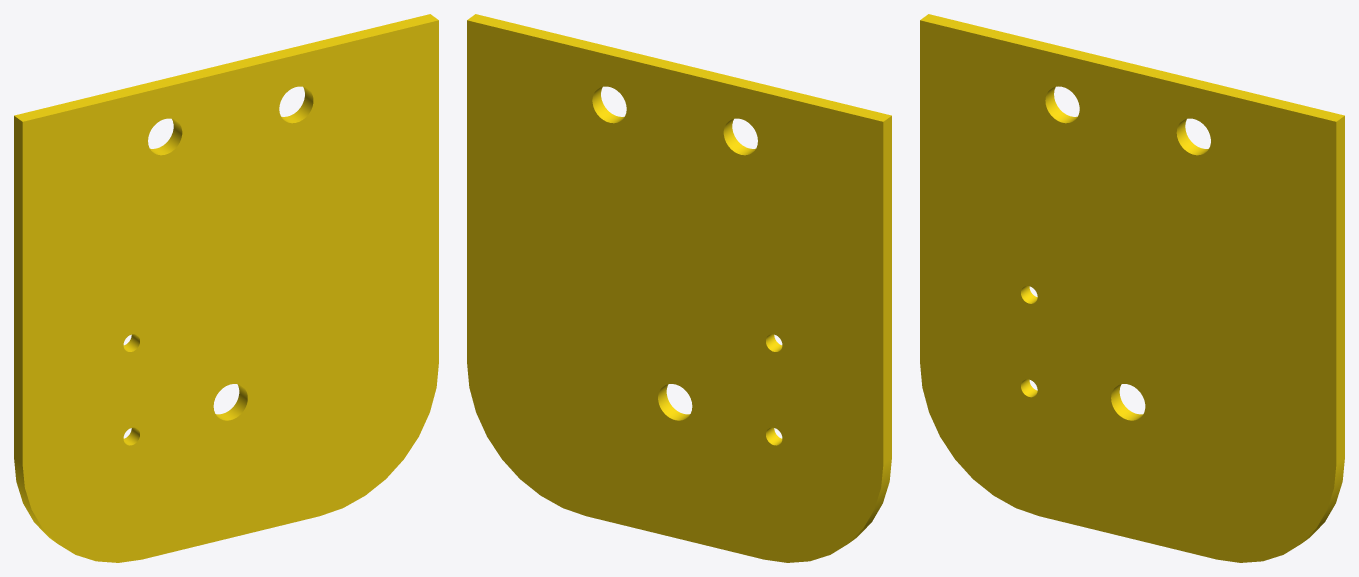
Rendered from A_H_8_Body_Cover.gltf.
3 renders of one model, left to right at view 1: azimuth 30°, elevation 25°; view 2: azimuth 150°, elevation 25°; view 3: azimuth 330°, elevation 25°, orthographic.
Parts seen in each view (by area): view 1: mesh32732, mesh32739, mesh32734; view 2: mesh32733, mesh32739, mesh32734; view 3: mesh32732, mesh32739, mesh32735.
Boxes of the visible parts, bbox=[...] form: mesh32732: bbox=[22, 20, 438, 562]; mesh32739: bbox=[14, 14, 438, 121]; mesh32734: bbox=[14, 116, 22, 463]; mesh32733: bbox=[467, 20, 883, 562]; mesh32739: bbox=[467, 14, 891, 121]; mesh32734: bbox=[883, 116, 891, 463]; mesh32732: bbox=[920, 20, 1336, 562]; mesh32739: bbox=[920, 14, 1344, 121]; mesh32735: bbox=[1336, 116, 1344, 463].
Size of the model in its own units: 0.0444 by 0.0476 by 0.00159.
